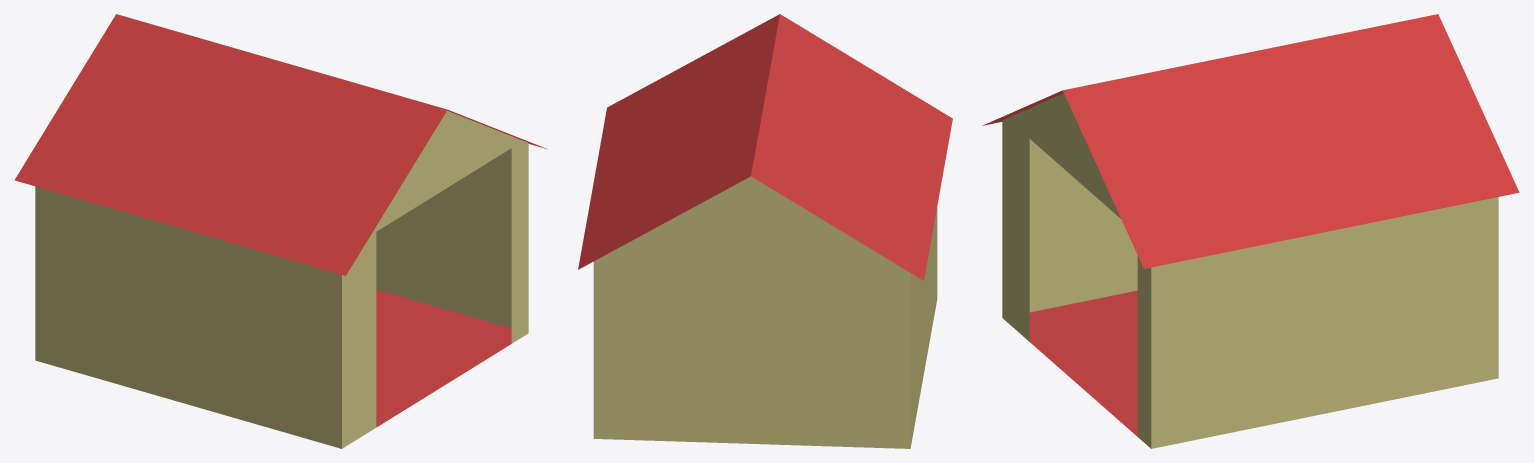
3 views of the same model, side by side, from view 1: azimuth 30°, elevation 25°; view 2: azimuth 150°, elevation 25°; view 3: azimuth 270°, elevation 25° (orthographic). The views are drawn at different scales.
Size of the model in its own units: 16.5 by 17.12 by 10.39.
